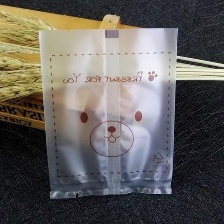snack: (32, 17, 187, 205)
